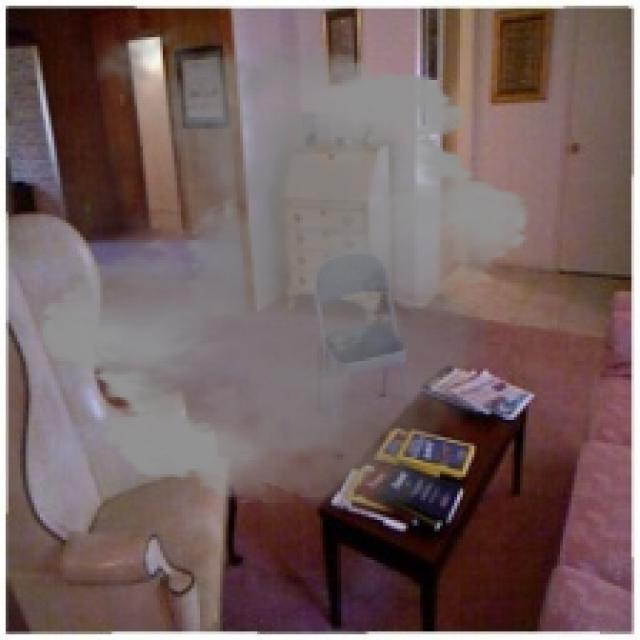smoke: (23, 11, 546, 526)
